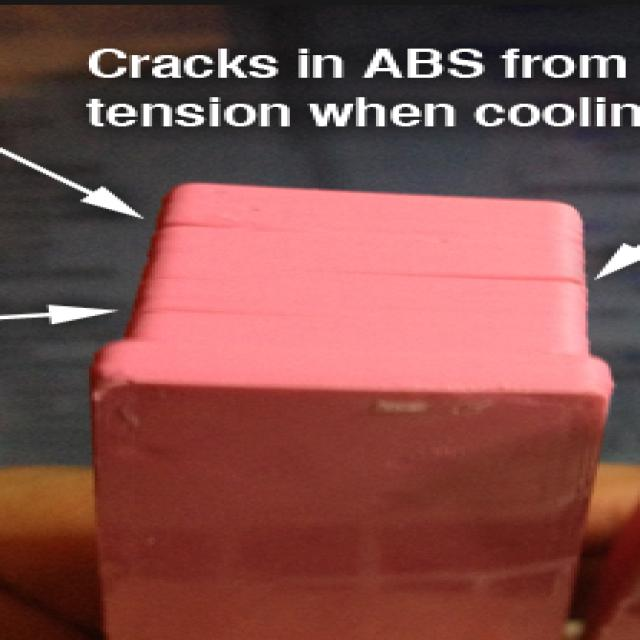Warping: (424, 265, 596, 291), (157, 216, 319, 237), (132, 302, 261, 318)
